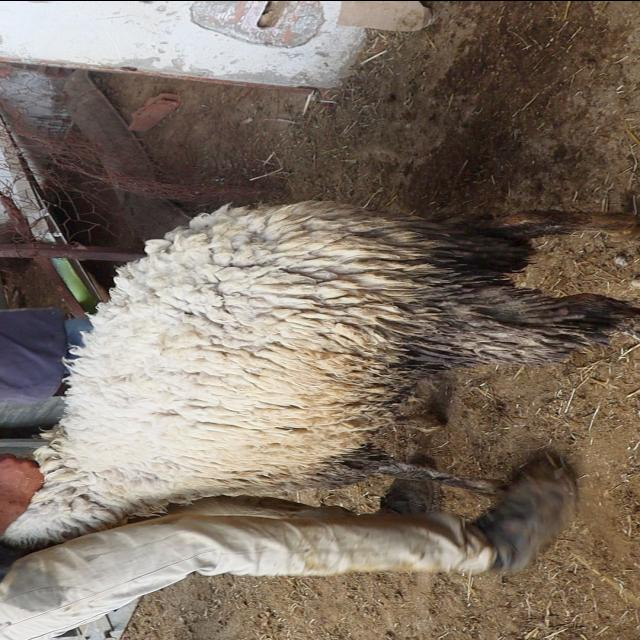Score_4: (4, 200, 639, 545)
